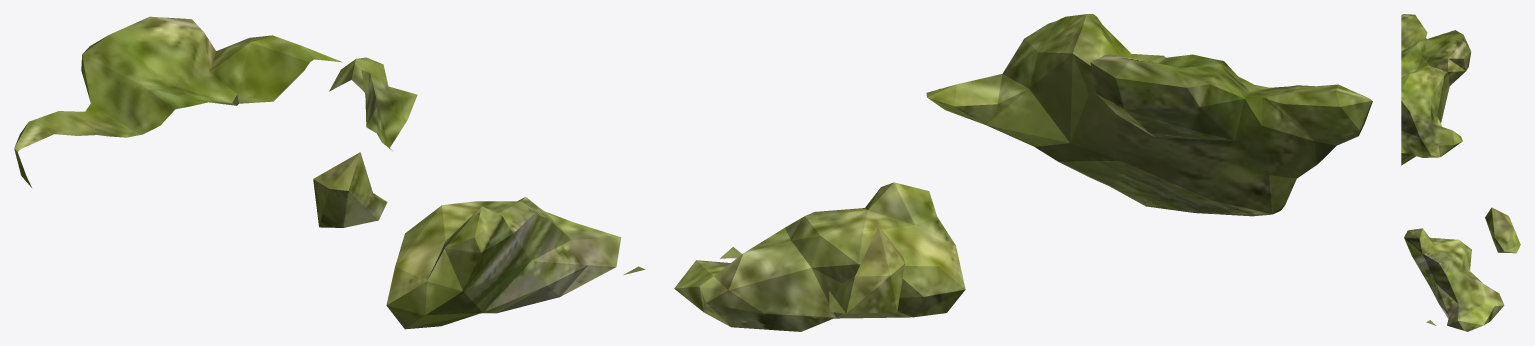
3 views of the same model, side by side, from view 1: azimuth 30°, elevation 25°; view 2: azimuth 150°, elevation 25°; view 3: azimuth 270°, elevation 25° (orthographic). The views are drawn at different scales.
Bounding box in the file's own units: 1.98 × 1.08 × 0.6177.
1 material, 1 textured.
